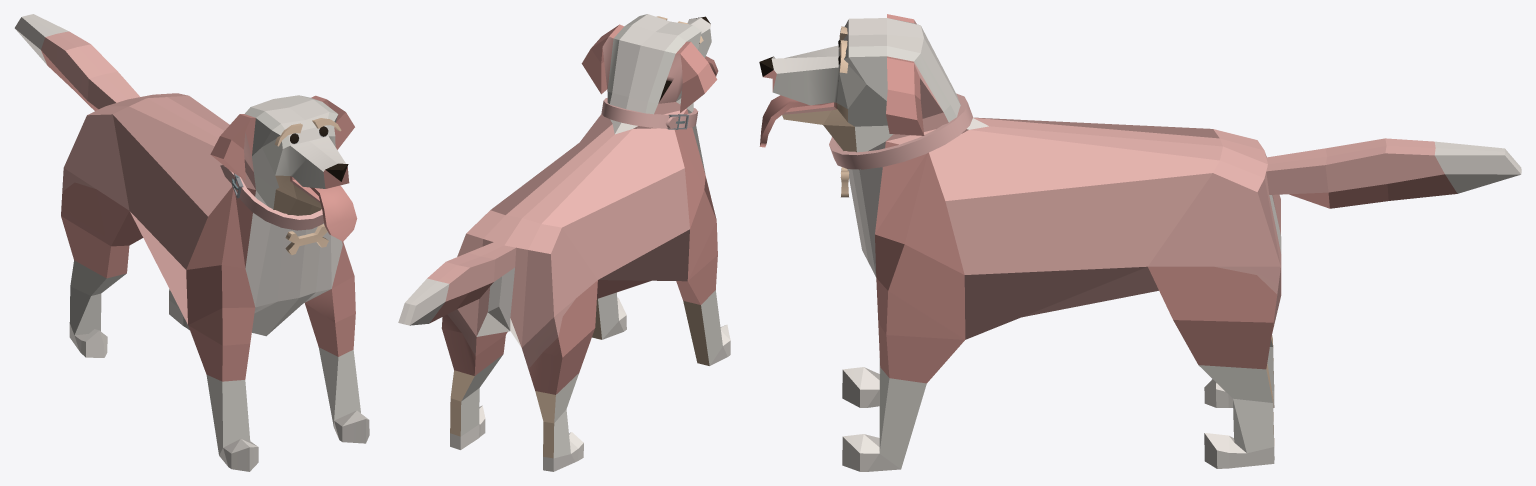
File: dog2.glb
3 views of the same model, side by side, from view 1: azimuth 30°, elevation 25°; view 2: azimuth 150°, elevation 25°; view 3: azimuth 270°, elevation 25° (orthographic). The views are drawn at different scales.
Parts seen in each view (by area): view 1: Dog_w_Collar.002; view 2: Dog_w_Collar.002; view 3: Dog_w_Collar.002.
Boxes of the visible parts, x1,y1,x2,y2 form: Dog_w_Collar.002: (14, 14, 369, 471); Dog_w_Collar.002: (398, 14, 730, 471); Dog_w_Collar.002: (759, 14, 1521, 471).
Bounding box in the file's own units: 1.83 × 4.24 × 7.31.
Materials: 1 (1 with a texture image).
